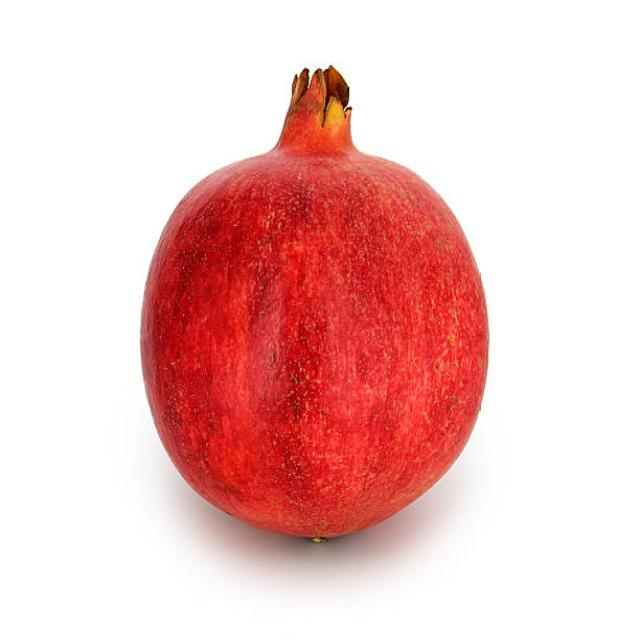Ripe: (136, 58, 493, 542)
